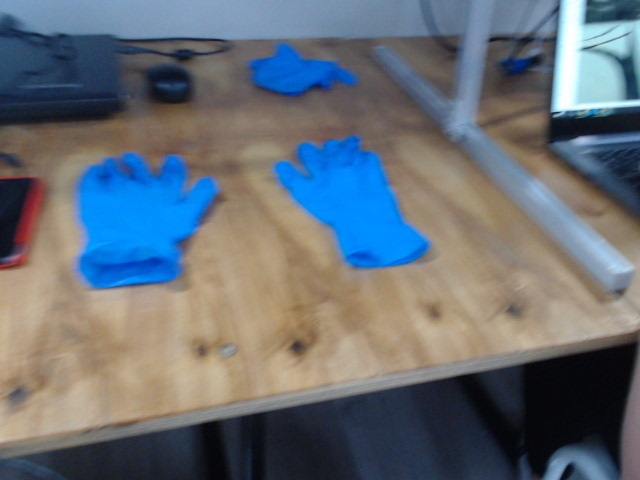medical_glove: (275, 135, 431, 269), (78, 152, 218, 285)
